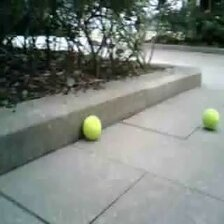tennis: (83, 116, 101, 140), (201, 110, 219, 129)
